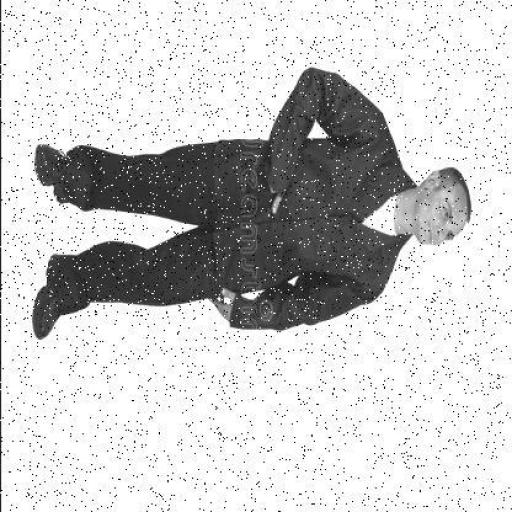person: (27, 50, 490, 348)
safety_shoe: (32, 248, 63, 342), (32, 142, 74, 211)
